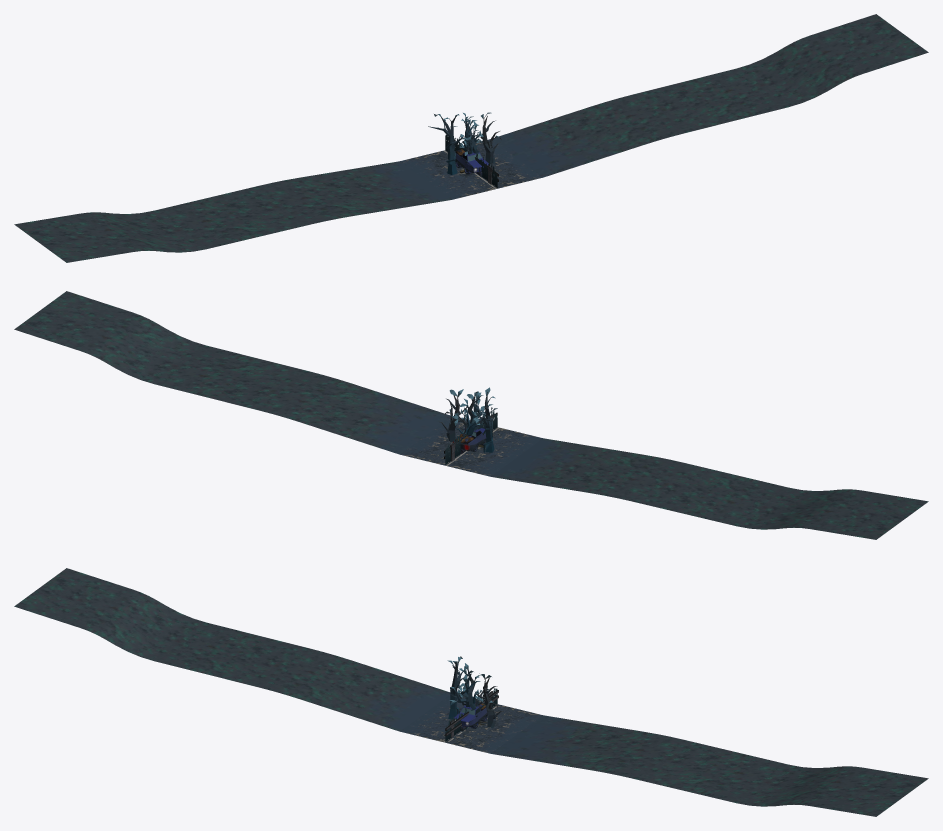
The model's file is Enviroment3Optimized.gltf.
3 renders of one model, top to bottom at view 1: azimuth 30°, elevation 25°; view 2: azimuth 150°, elevation 25°; view 3: azimuth 330°, elevation 25°, orthographic.
Parts seen in each view (by area): view 1: SideRailing, Ground, Tree1, Enviroment3Car; view 2: SideRailing, Ground, Tree1; view 3: SideRailing, Ground, Tree1.
Part boxes in pixels (<box>): SideRailing: <box>14,14,928,262</box>; Ground: <box>400,139,542,199</box>; Tree1: <box>428,112,501,174</box>; Enviroment3Car: <box>454,149,488,174</box>; SideRailing: <box>14,291,928,539</box>; Ground: <box>400,417,542,476</box>; Tree1: <box>439,387,495,452</box>; SideRailing: <box>14,568,928,816</box>; Ground: <box>400,695,542,753</box>; Tree1: <box>447,656,503,728</box>.
Bounding box in the file's own units: 125 × 8.39 × 13.25.
15 materials, 15 textured.
